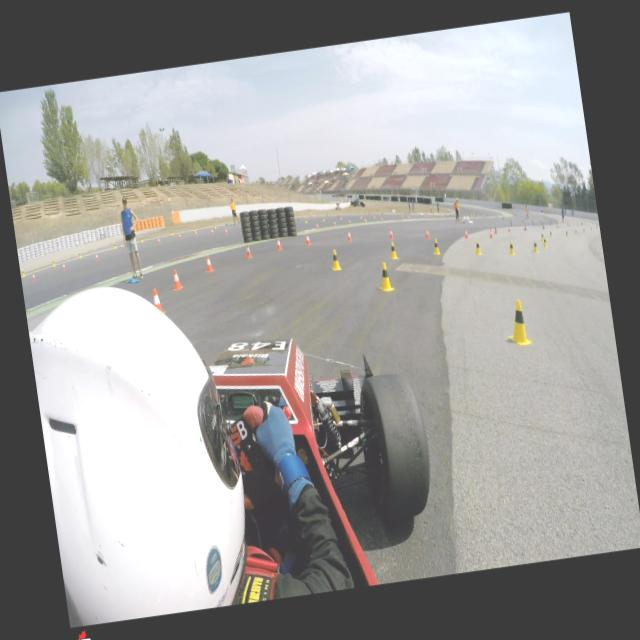orange_cone: (152, 287, 164, 314), (170, 268, 183, 292), (204, 255, 214, 272), (244, 243, 253, 260), (304, 233, 312, 247), (275, 238, 283, 252), (387, 228, 394, 240), (424, 228, 431, 240), (346, 230, 352, 242), (463, 228, 469, 240), (488, 228, 493, 240), (95, 252, 100, 262), (492, 226, 498, 234), (32, 274, 37, 282), (62, 263, 67, 271), (332, 220, 337, 227), (157, 237, 162, 244), (506, 226, 511, 233), (178, 232, 182, 240), (316, 222, 320, 230), (224, 228, 228, 236), (194, 230, 198, 237), (210, 228, 214, 235), (522, 224, 526, 231), (380, 216, 384, 222), (363, 218, 367, 224), (348, 219, 352, 225), (556, 223, 558, 229)
yellow_cone: (502, 298, 532, 348), (375, 261, 395, 293), (328, 248, 342, 272), (386, 240, 399, 260), (430, 238, 441, 255), (472, 240, 482, 256), (506, 240, 516, 256), (532, 240, 540, 254), (541, 236, 548, 248), (539, 232, 545, 242), (548, 230, 554, 238), (21, 270, 26, 278), (214, 222, 218, 230), (565, 230, 569, 238), (193, 226, 197, 233), (574, 228, 578, 235), (304, 218, 308, 225), (170, 230, 174, 237), (113, 242, 117, 249), (52, 260, 56, 267), (372, 214, 376, 220), (582, 226, 585, 234), (140, 236, 144, 242), (78, 252, 82, 258), (322, 216, 325, 222), (360, 214, 362, 220), (340, 216, 342, 220)
